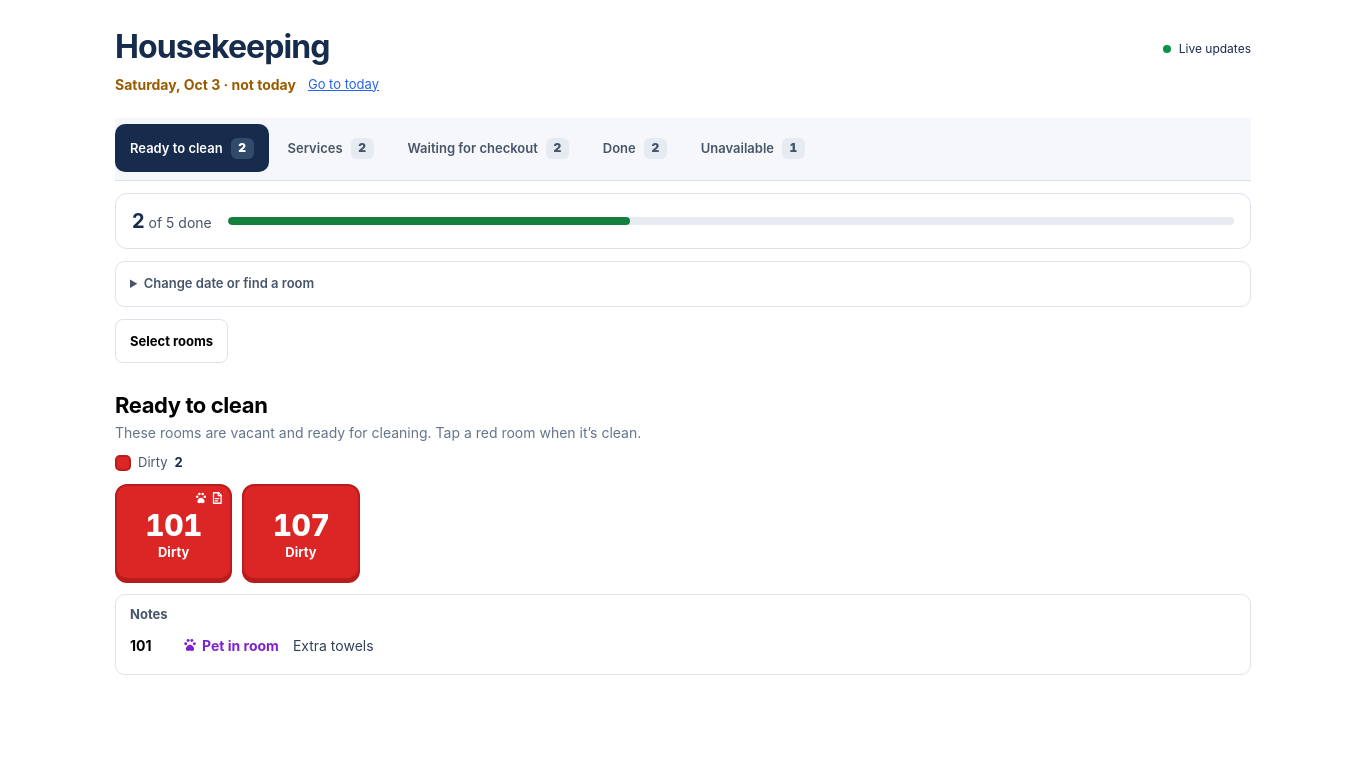
Services bulk actions complete selected pending services and revert selected completed services separately
Expected: the list item with aria-label "Room 101, Dirty" is shown, left=115, top=484, right=232, bottom=580
Click the tab "Services 2".
click(331, 148)  # box left=273, top=124, right=389, bottom=172
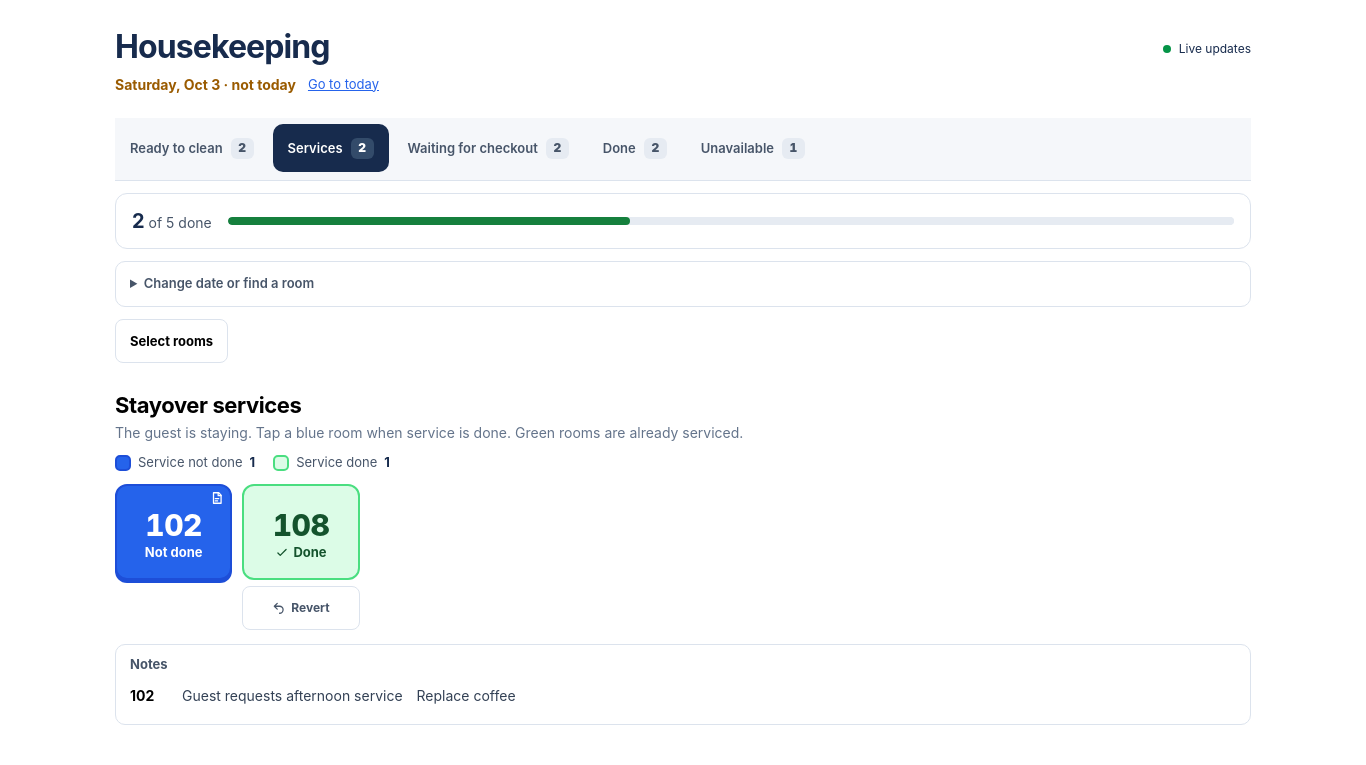
Click the button "Select rooms".
click(172, 341)  # box left=115, top=319, right=228, bottom=363
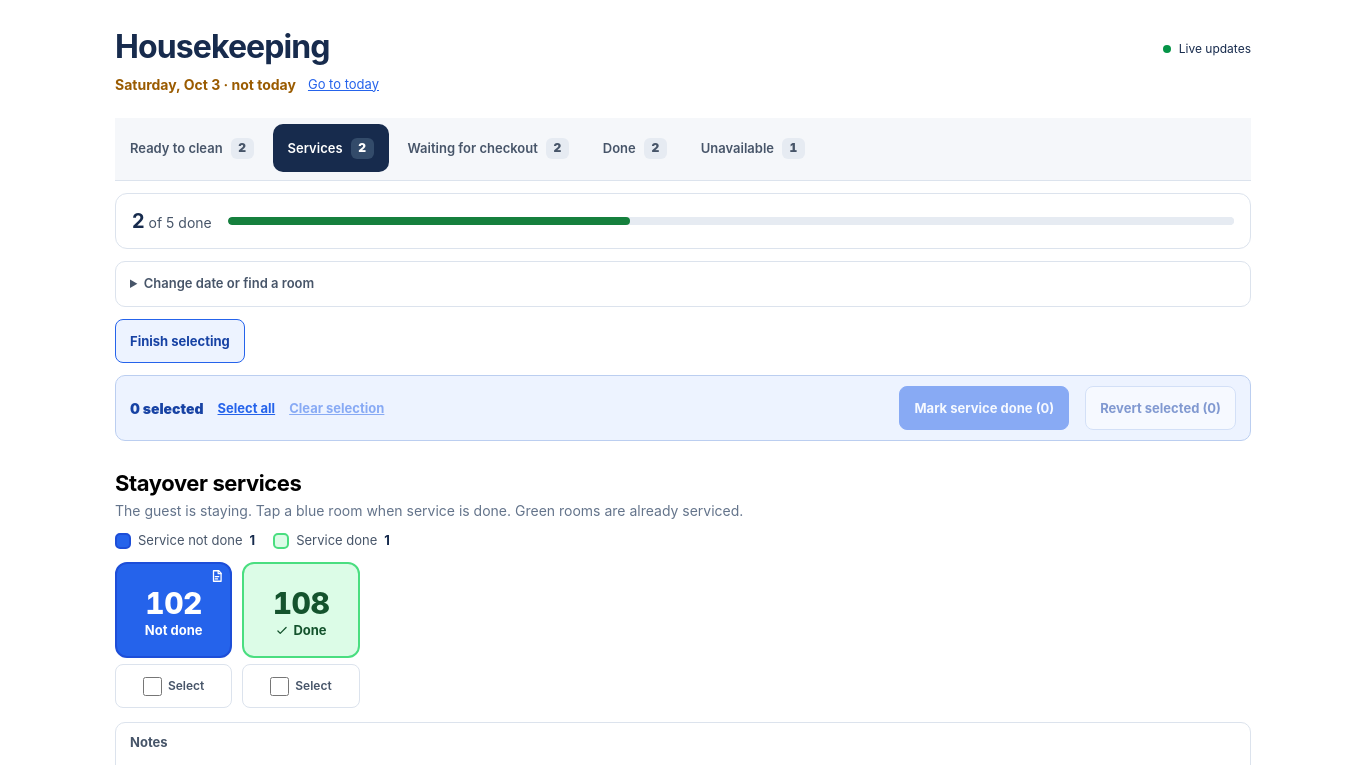
Click the button with aria-label "Select all visible rooms".
click(246, 408)  # box left=218, top=386, right=275, bottom=430
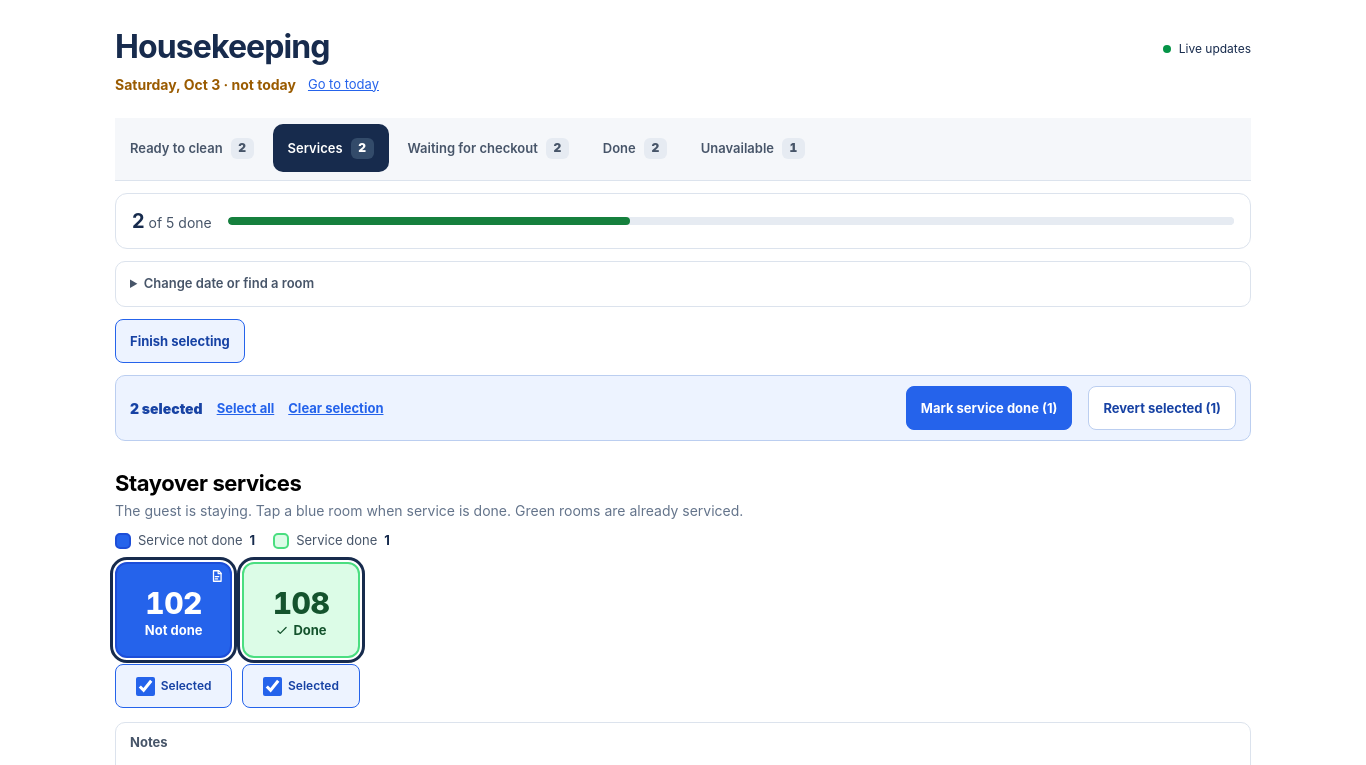
Expected: the element named "Selected rooms" shows "2 selected", left=115, top=375, right=1251, bottom=441
Click the button with aria-label "Mark selected services done".
click(989, 408)  # box left=906, top=386, right=1072, bottom=430
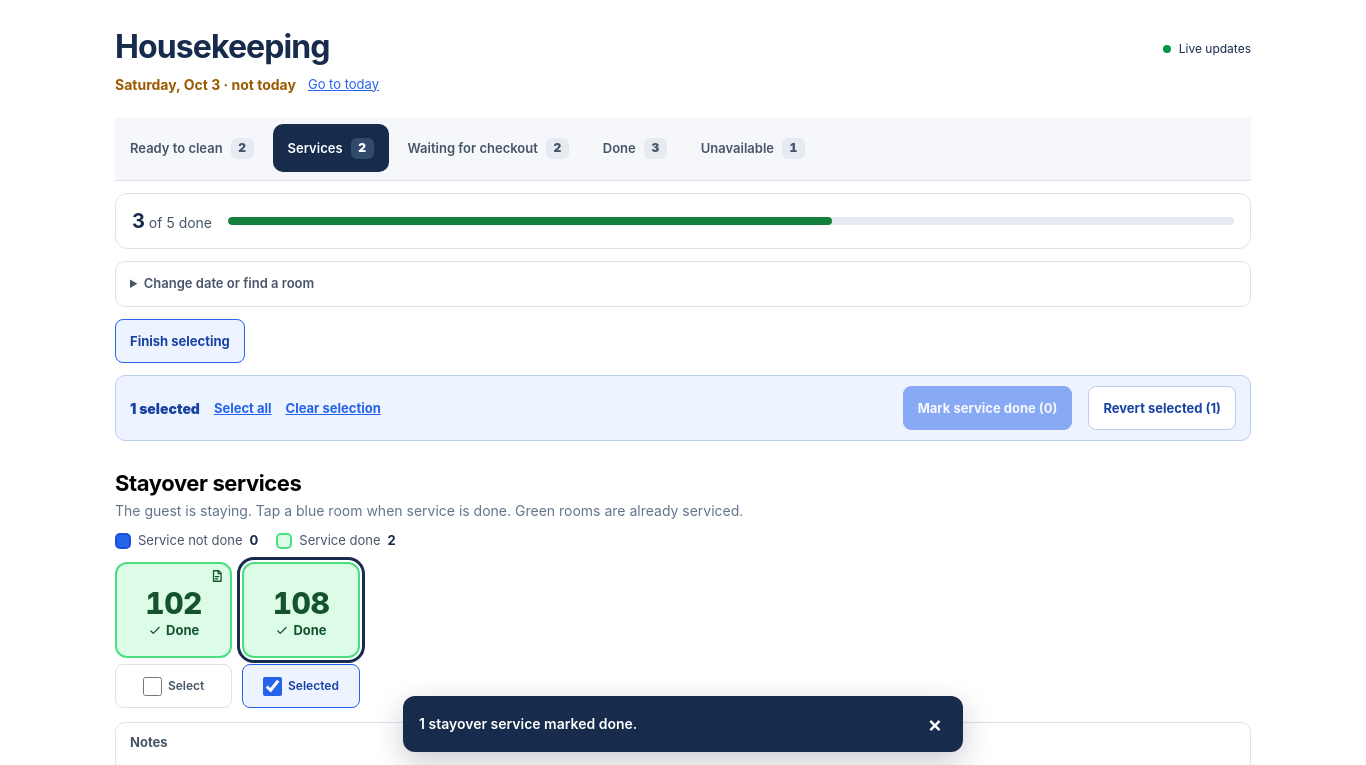
Expected: the checkbox named "Select room 108" is checked, left=263, top=677, right=282, bottom=696
Expected: the text "1 stayover service marked done." is shown, left=419, top=715, right=637, bottom=732
Expected: the checkbox named "Select room 102" is not checked, left=143, top=677, right=162, bottom=696
Click the button with aria-label "Revert selected rooms".
click(1162, 408)  # box left=1088, top=386, right=1236, bottom=430
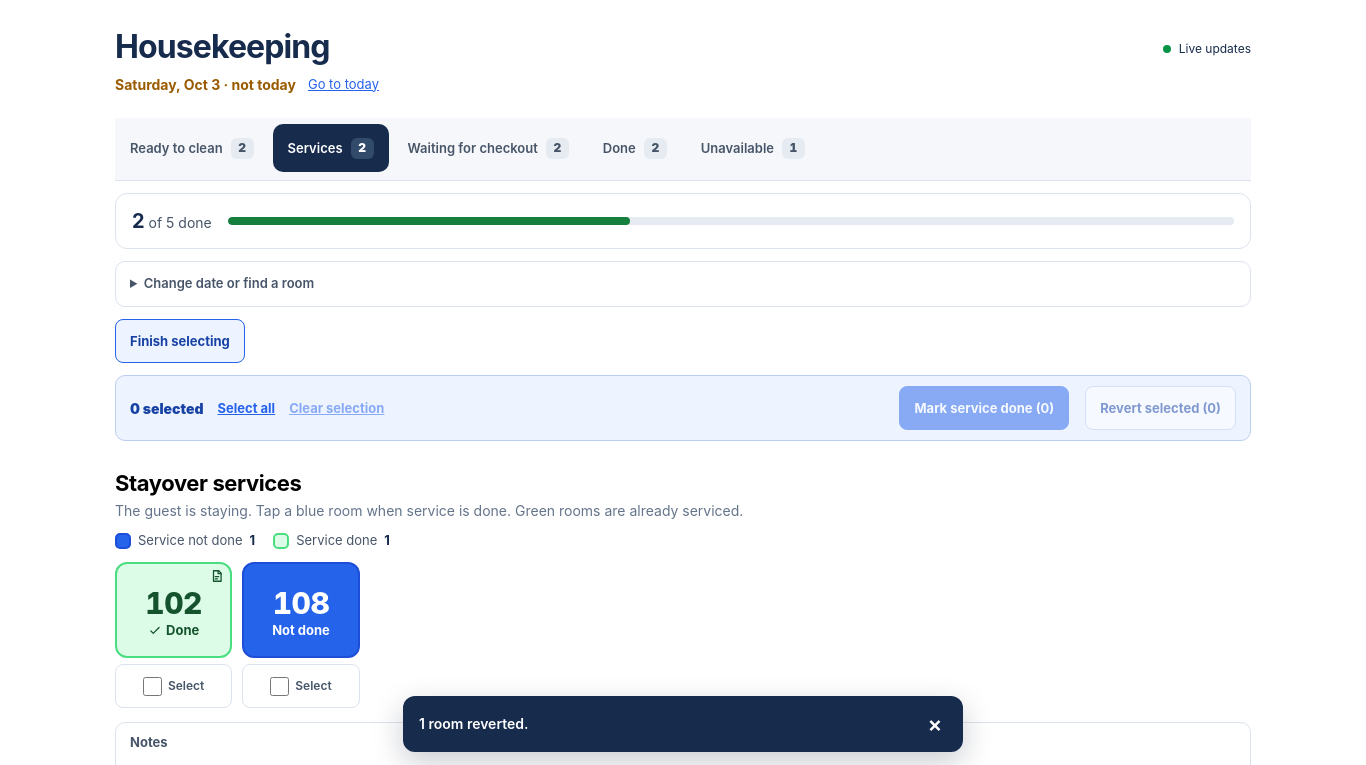
Expected: the text "1 room reverted." is shown, left=419, top=715, right=528, bottom=732
